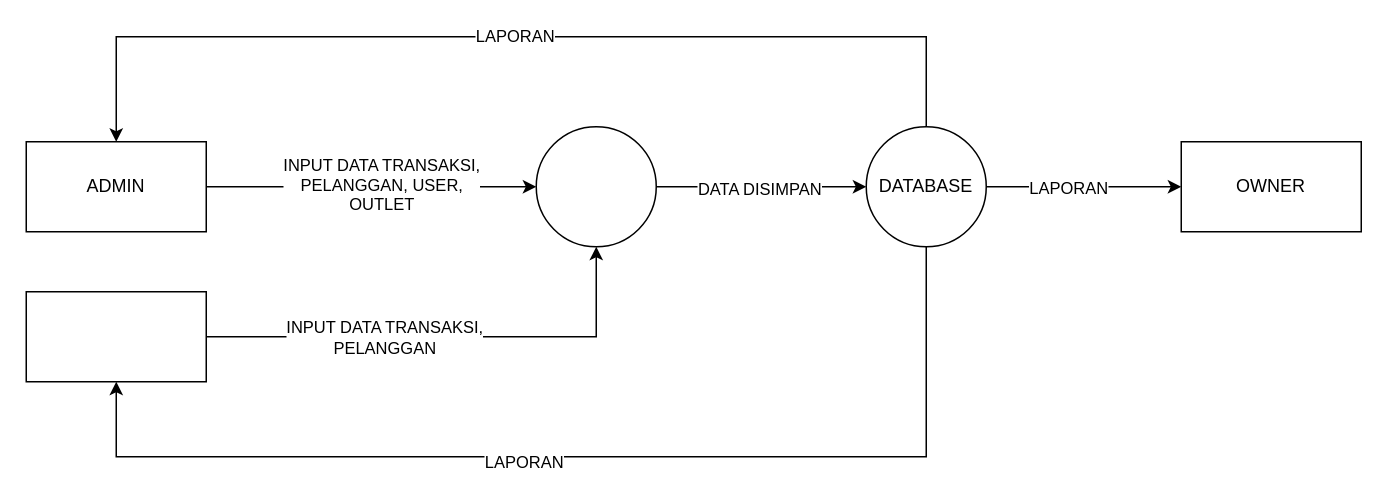
The diagram is 1388 pixels wide and 498 high, and some of its shapes have lost their labels. Each missing label, with the box of its shape:
KASIR: (25, 290, 206, 382)
PROSES INPUT: (535, 125, 656, 247)
